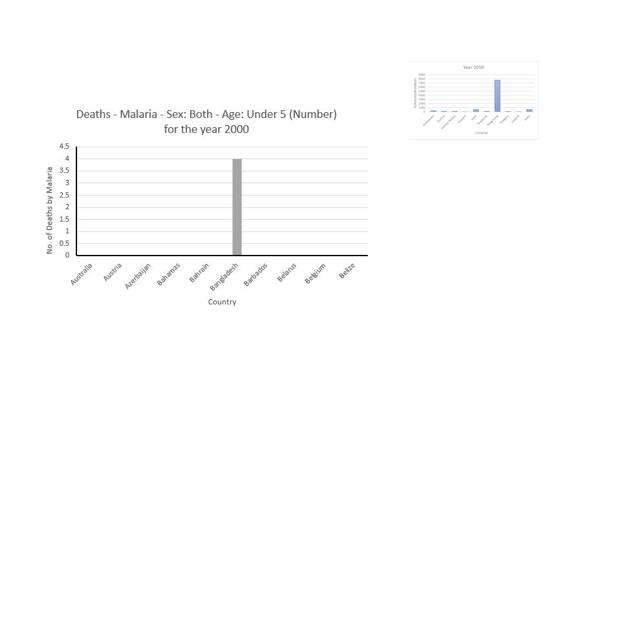Graph: (40, 103, 373, 309), (409, 61, 539, 140)
